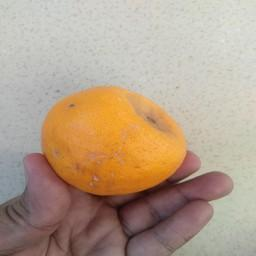Bad_orange: (35, 80, 189, 198)
